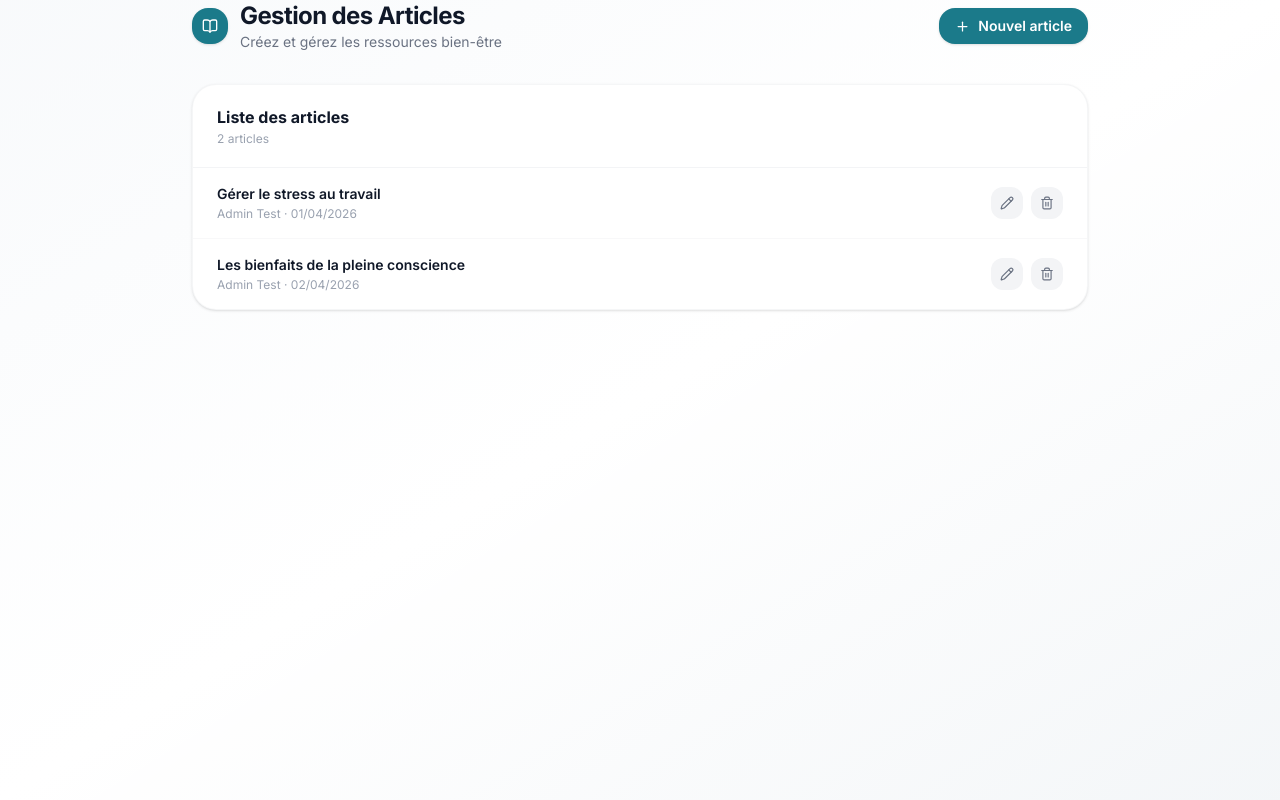
AdminArticles — Formulaire d'édition › pré-remplit le formulaire avec le titre de l'article à éditer
Click the button titled "Modifier" in the row of "Gérer le stress au travail": coordinates (1007, 203) [991, 187, 1023, 219]
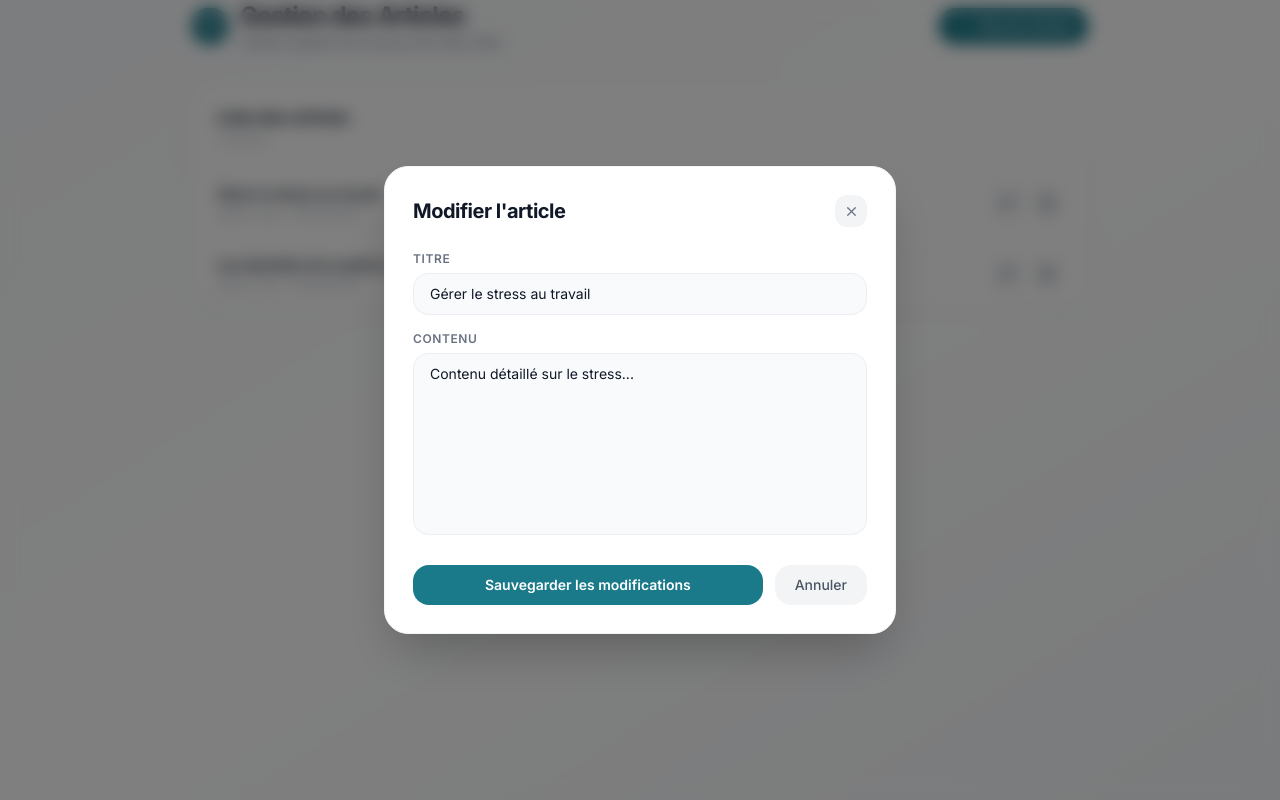
Now the field with placeholder "Titre de l'article" holds "Gérer le stress au travail", box [413, 273, 867, 315]
